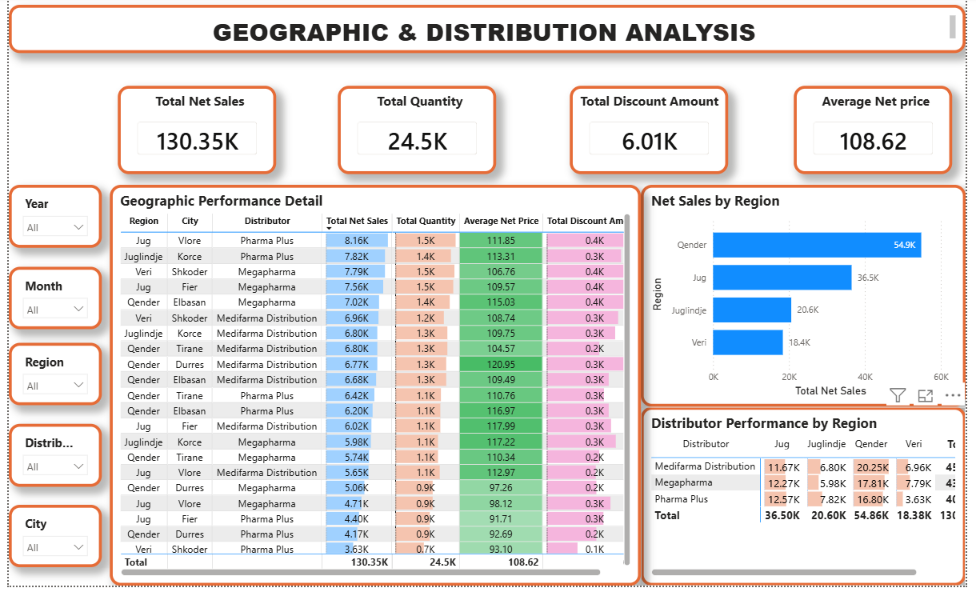

The page's visual inventory and layout, read from the dashboard file:
{"tool":"powerbi","page":{"name":"Geagraphic & Distribution Analysis","canvas":[1300,800],"ordinal":3},"visuals":[{"type":"cardVisual","title":"Total Net Sales","fields":{"Data":["_measures.Total Net Sales"]},"box":[148.1,120.9,215,119.9],"z":0},{"type":"cardVisual","title":"Total Quantity","fields":{"Data":["_measures.Total Quantity"]},"box":[447,120.9,215,119.9],"z":1000},{"type":"cardVisual","title":"Total Discount Amount","fields":{"Data":["_measures.Total Discount Amount"]},"box":[762.2,120.9,215,119.9],"z":2000},{"type":"cardVisual","title":"Average Net price","fields":{"Data":["_measures.Average Net Price"]},"box":[1066.6,120.9,215,119.9],"z":3000},{"type":"slicer","fields":{"Values":["Pharmacy dataset.Distributor"]},"box":[0,580.2,126.4,85.6],"z":4000},{"type":"slicer","fields":{"Values":["Pharmacy dataset.Region"]},"box":[0,470.1,126.4,85],"z":5000},{"type":"slicer","fields":{"Values":["Calendar Table.Month Name"]},"box":[0,366.8,126.4,85],"z":6000},{"type":"slicer","fields":{"Values":["Calendar Table.Year"]},"box":[0,255.4,126.4,85.6],"z":7000},{"type":"slicer","fields":{"Values":["Pharmacy dataset.City"]},"box":[0,690.2,126.4,85],"z":8000},{"type":"clusteredBarChart","title":"Net  Sales by Region","fields":{"Category":["Pharmacy dataset.Region"],"Y":["_measures.Total Net Sales"]},"box":[858.7,255.4,441.6,301.6],"z":9000},{"type":"pivotTable","title":"Distributor Performance by Region","fields":{"Columns":["Pharmacy dataset.Region"],"Rows":["Pharmacy dataset.Distributor"],"Values":["_measures.Total Net Sales"]},"box":[858.7,557.1,441.6,243.2],"z":10000},{"type":"tableEx","title":"Geographic Performance Detail","fields":{"Values":["Pharmacy dataset.Region","Pharmacy dataset.City","Pharmacy dataset.Distributor","_measures.Total Net Sales","_measures.Total Quantity","_measures.Average Net Price","_measures.Total Discount Amount"]},"box":[137.2,255.4,721.5,544.8],"z":11000},{"type":"textbox","box":[0,11.1,1300.3,65.5],"z":12000}]}

Visuals, with their boxes in screenshot pixels (x1, y1, x2, y2), scaled from the page's 1300x800 canvas onto the 976x590 screenshot:
"Total Net Sales" cardVisual: bbox=(111, 89, 273, 178)
"Total Quantity" cardVisual: bbox=(336, 89, 497, 178)
"Total Discount Amount" cardVisual: bbox=(572, 89, 734, 178)
"Average Net price" cardVisual: bbox=(801, 89, 962, 178)
slicer - Pharmacy dataset.Distributor: bbox=(0, 428, 95, 491)
slicer - Pharmacy dataset.Region: bbox=(0, 347, 95, 409)
slicer - Calendar Table.Month Name: bbox=(0, 271, 95, 333)
slicer - Calendar Table.Year: bbox=(0, 188, 95, 251)
slicer - Pharmacy dataset.City: bbox=(0, 509, 95, 572)
"Net  Sales by Region" clusteredBarChart: bbox=(645, 188, 975, 411)
"Distributor Performance by Region" pivotTable: bbox=(645, 411, 975, 589)
"Geographic Performance Detail" tableEx: bbox=(103, 188, 645, 589)
textbox: bbox=(0, 8, 975, 56)
